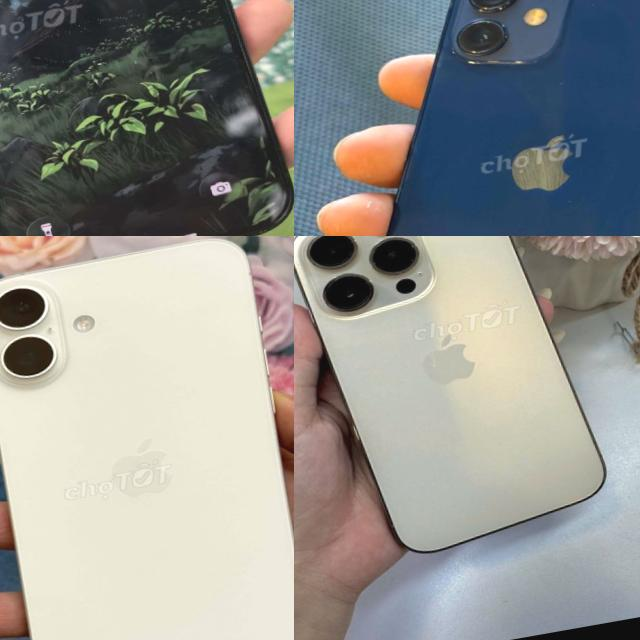gen_12_13: (294, 0, 640, 236), (0, 0, 294, 236)
gen_14: (294, 236, 625, 571)
gen_16: (0, 236, 294, 640)
